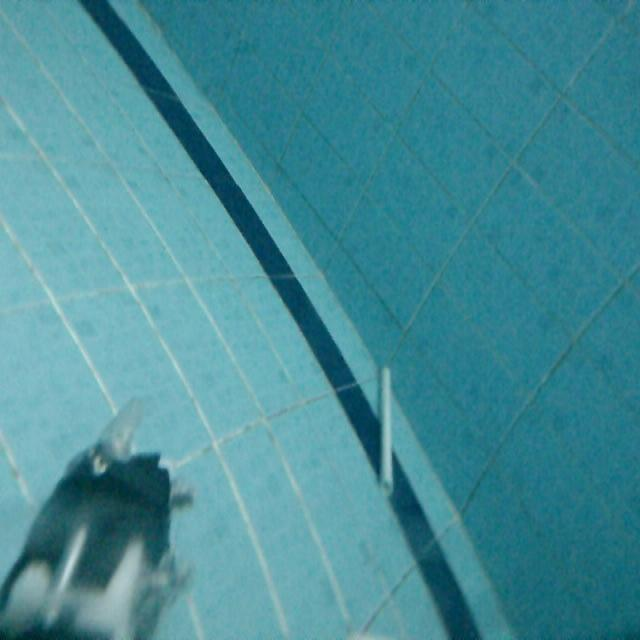Cube: (377, 364, 397, 506)
